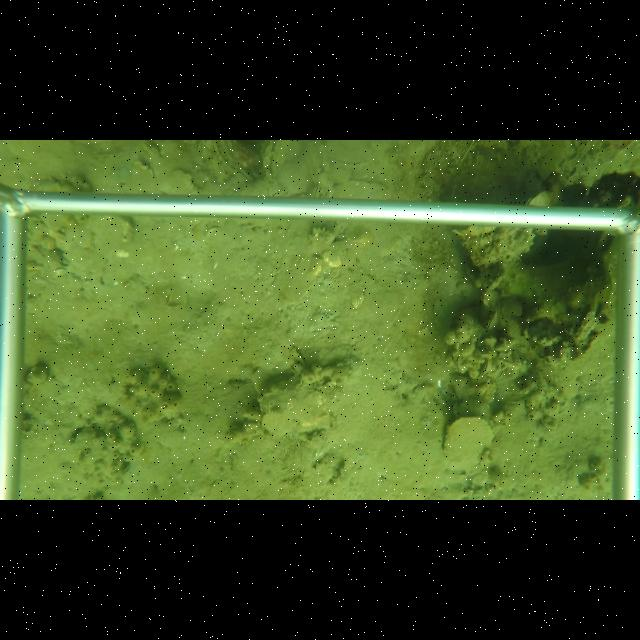Oyster-Closed: (444, 416, 499, 469)
Oyster-Open: (211, 141, 254, 184), (523, 190, 554, 206), (478, 358, 492, 377), (486, 309, 498, 331), (270, 185, 288, 196), (308, 183, 320, 196)
